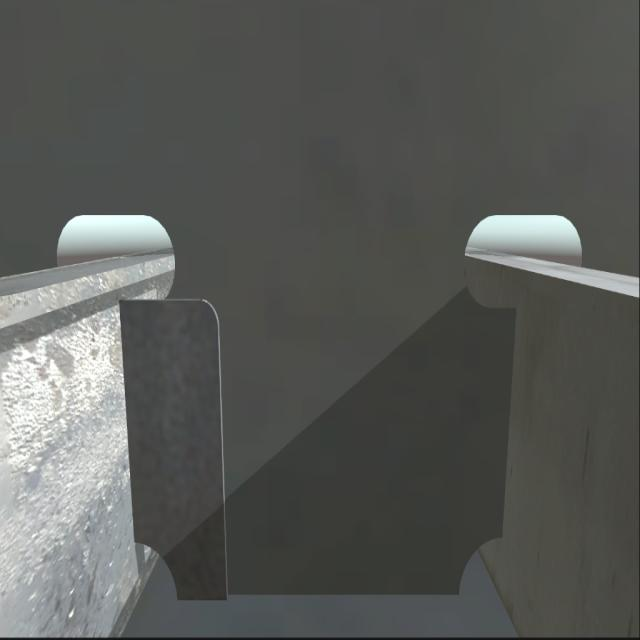fillet_hole: (133, 548, 177, 604), (460, 540, 498, 594)
fillet_yong_jeop_jang: (170, 582, 469, 606)
longi_yong_jeop_jang: (494, 304, 518, 544), (123, 291, 136, 551)
plate_CP05: (126, 298, 224, 596)
